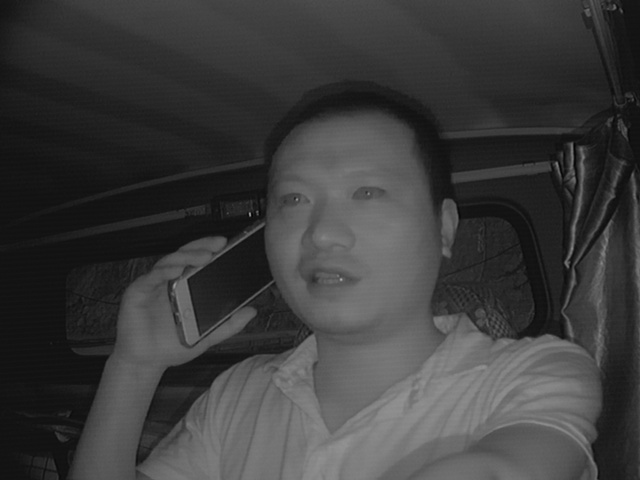hand: (114, 235, 245, 362)
